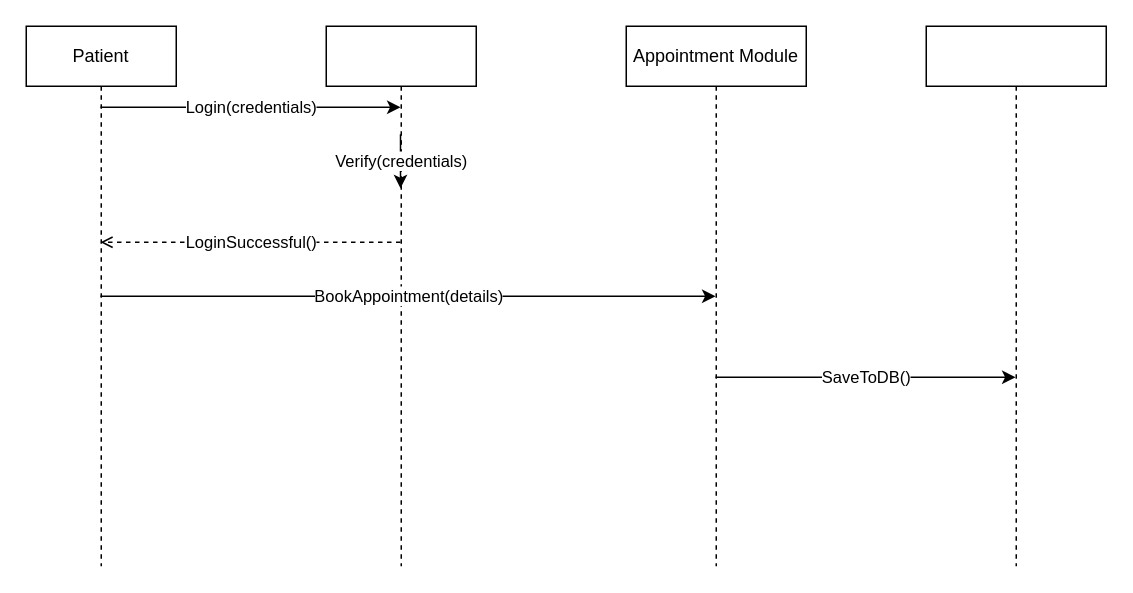
Some shapes in this 1133 by 593 pixel diagram are drawn without their labels. The shapes that lost their labels are listed below. From the top down, each one's box as (x1, y1, x2, y2) in pixels, then its label:
(325, 25, 476, 566): Auth System
(925, 25, 1106, 566): MySQL Database
